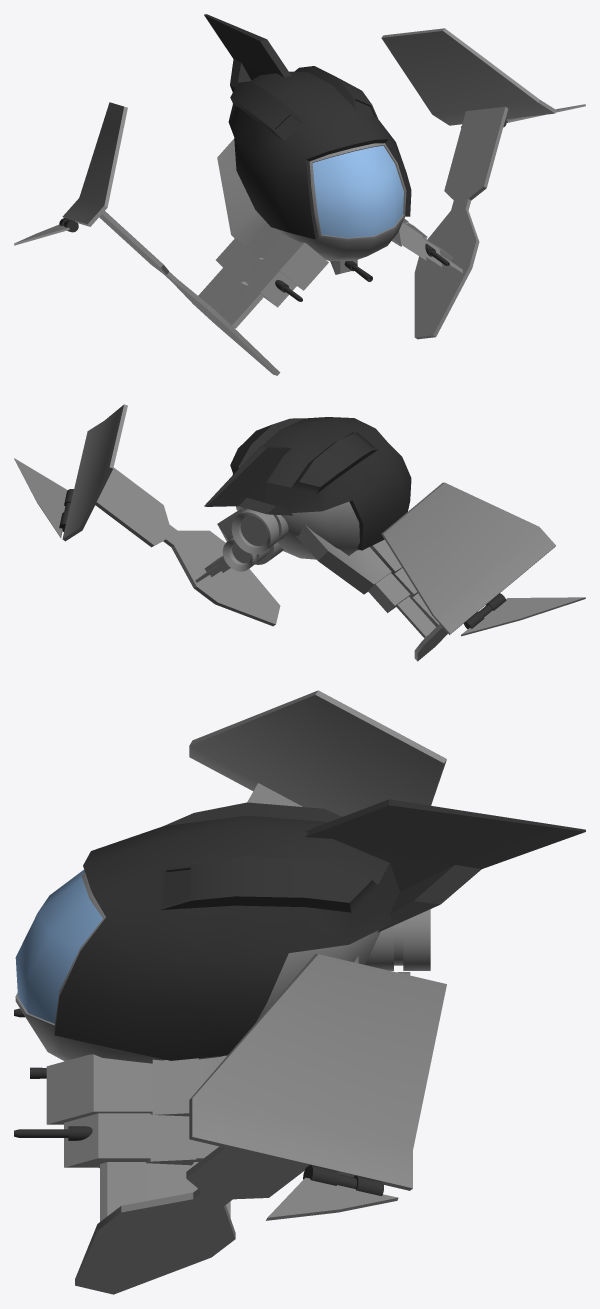
File: Protos.glb
The picture shows the model from 3 angles, top to bottom: view 1: azimuth 30°, elevation 25°; view 2: azimuth 150°, elevation 25°; view 3: azimuth 270°, elevation 25°; orthographic projection. The views are drawn at different scales.
Visible parts, largest first — view 1: Куб.009; view 2: Куб.009; view 3: Куб.009.
Part boxes in pixels (box(x1,y1,x2,y2)): Куб.009: box(14, 14, 585, 375); Куб.009: box(14, 404, 585, 661); Куб.009: box(14, 690, 585, 1294).
Bounding box in the file's own units: 0.5002 × 0.2148 × 0.2572.
